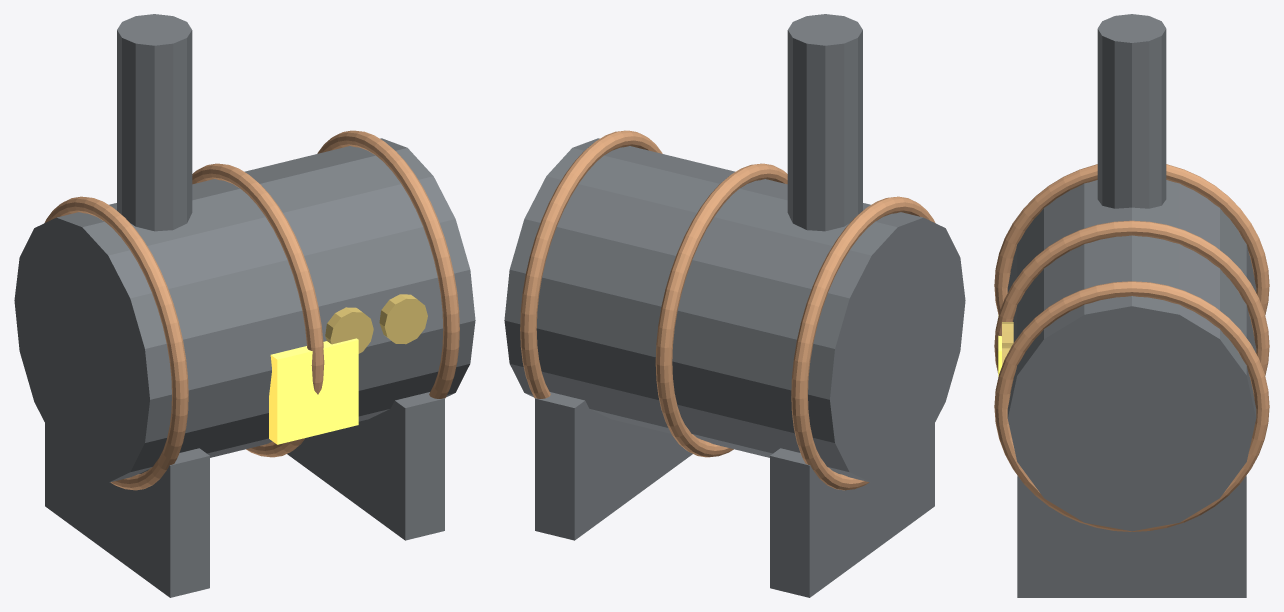
File: steampunk_boiler.glb
The picture shows the model from 3 angles, left to right: view 1: azimuth 30°, elevation 25°; view 2: azimuth 150°, elevation 25°; view 3: azimuth 270°, elevation 25°; orthographic projection. The views are drawn at different scales.
Parts seen in each view (by area): view 1: Cylinder, Cylinder.001, Cube, Cube.001, Cube.002, Torus, Torus.002, Torus.001, Cylinder.003, Cylinder.002; view 2: Cylinder, Cylinder.001, Cube, Cube.001, Torus, Torus.001, Torus.002; view 3: Cylinder, Cube.001, Cylinder.001, Torus.002, Torus.001, Torus.
Boxes of the visible parts, x1,y1,x2,y2 form: Cylinder: (14, 138, 475, 482); Cylinder.001: (117, 14, 192, 231); Cube: (45, 423, 209, 597); Cube.001: (287, 392, 444, 540); Cube.002: (269, 338, 358, 444); Torus: (44, 196, 188, 490); Torus.002: (317, 130, 459, 398); Torus.001: (192, 163, 324, 457); Cylinder.003: (379, 294, 427, 344); Cylinder.002: (325, 307, 373, 353); Cylinder: (504, 138, 965, 482); Cylinder.001: (787, 14, 862, 231); Cube: (770, 423, 934, 597); Cube.001: (535, 392, 692, 540); Torus: (791, 196, 935, 490); Torus.001: (655, 163, 787, 457); Torus.002: (520, 130, 662, 398); Cylinder: (1007, 180, 1256, 531); Cube.001: (1017, 475, 1246, 597); Cylinder.001: (1097, 14, 1166, 208); Torus.002: (994, 281, 1269, 531); Torus.001: (994, 220, 1269, 375); Torus: (994, 164, 1269, 314).
Size of the model in its own units: 1.8 by 2.7 by 1.44.
